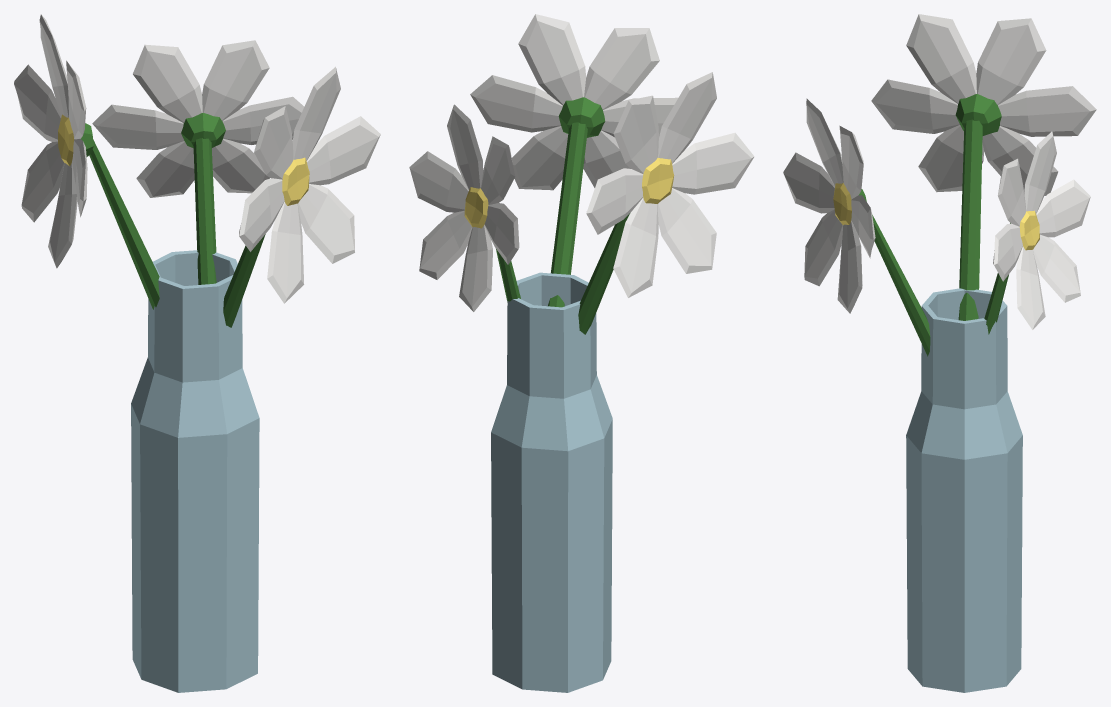
Rendered from Flower_63.fbx.
The picture shows the model from 3 angles, left to right: view 1: azimuth 30°, elevation 25°; view 2: azimuth 150°, elevation 25°; view 3: azimuth 270°, elevation 25°; orthographic projection. The views are drawn at different scales.
Visible parts, largest first — view 1: Flower_63; view 2: Flower_63; view 3: Flower_63.
Boxes of the visible parts, x1=… form: Flower_63: x1=14, y1=14, x2=380, y2=692; Flower_63: x1=409, y1=14, x2=754, y2=692; Flower_63: x1=783, y1=14, x2=1096, y2=692.
Size of the model in its own units: 34.23 by 34.02 by 71.85.
